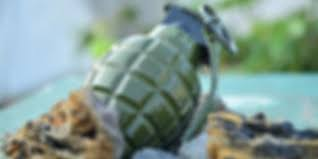e1: (86, 3, 238, 146)
